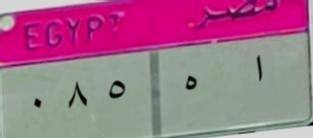0: (29, 93, 47, 118)
5: (105, 76, 127, 107)
8: (63, 76, 90, 118)
alif: (248, 50, 269, 86)
haa: (177, 66, 204, 102)
